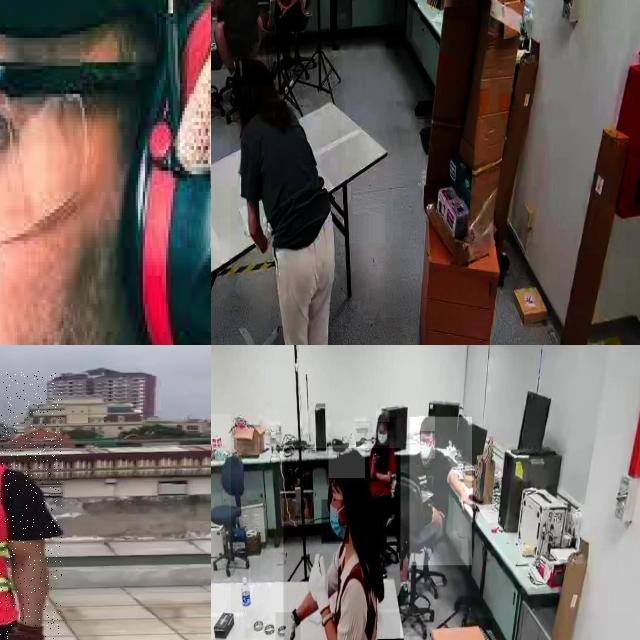Ear-protection: (128, 0, 211, 345)
face_mask: (321, 499, 349, 544), (421, 434, 435, 458), (378, 423, 388, 445)
hand_glove: (308, 552, 330, 618), (275, 612, 300, 640)
hand_noglove: (460, 490, 478, 511), (278, 3, 288, 20), (370, 450, 380, 462), (276, 2, 284, 14)
head_nohelmet: (328, 445, 366, 479), (236, 59, 274, 87), (418, 416, 436, 432), (376, 411, 390, 423)
person: (230, 51, 342, 345), (283, 447, 400, 640), (0, 370, 62, 640), (410, 417, 472, 566), (367, 417, 397, 558), (211, 0, 266, 68), (270, 0, 311, 78)
